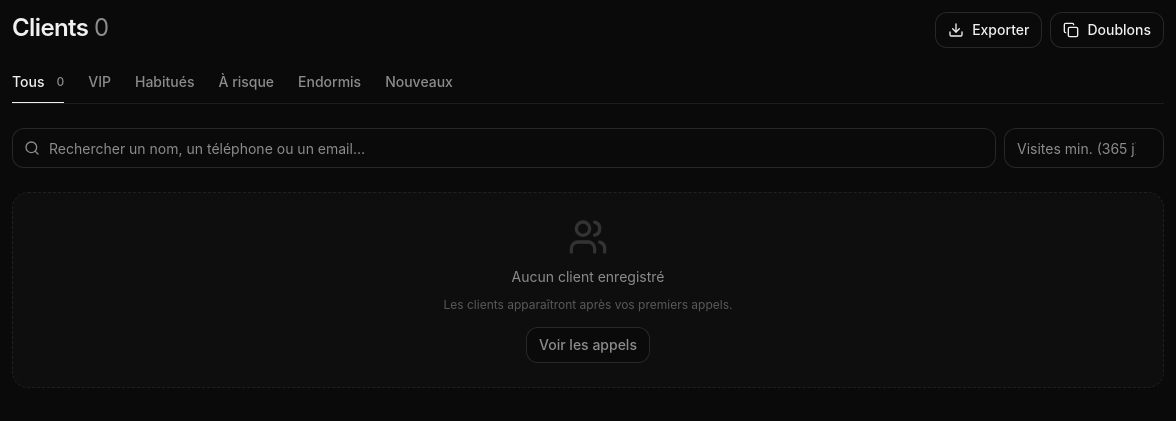
Test: CustomersPage › cherche à la frappe après une pause, sans bouton Rechercher
Expected: the text "Aucun client enregistré" is shown, [512,267,664,287]
Note: Un numéro saisi à la française est transmis tel quel à l’API.
Type "06 12 34 56 78" into the field named "rechercher un client".
click(504, 148); type("06 12 34 56 78")  # box [12,128,996,168]
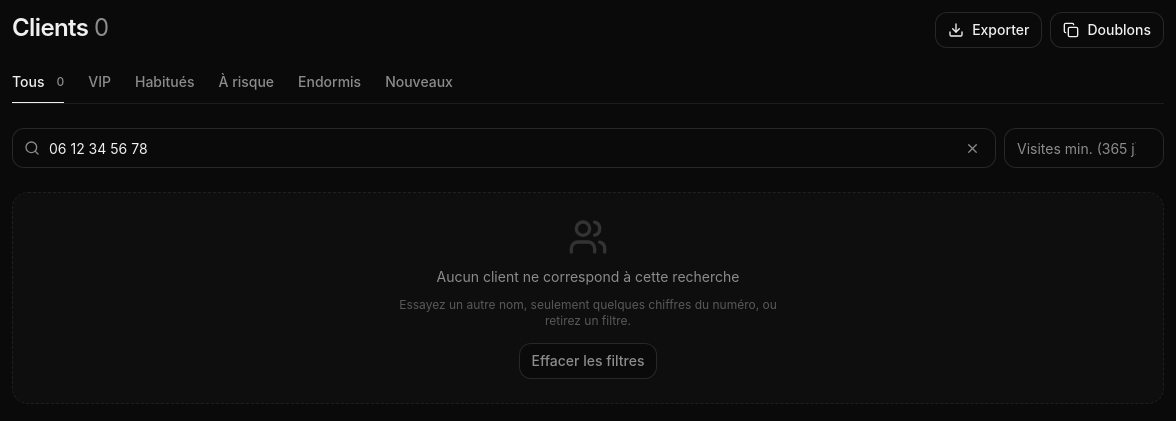
Expected: the text "Aucun client ne correspond à cette recherche" is shown, [436,267,740,287]
